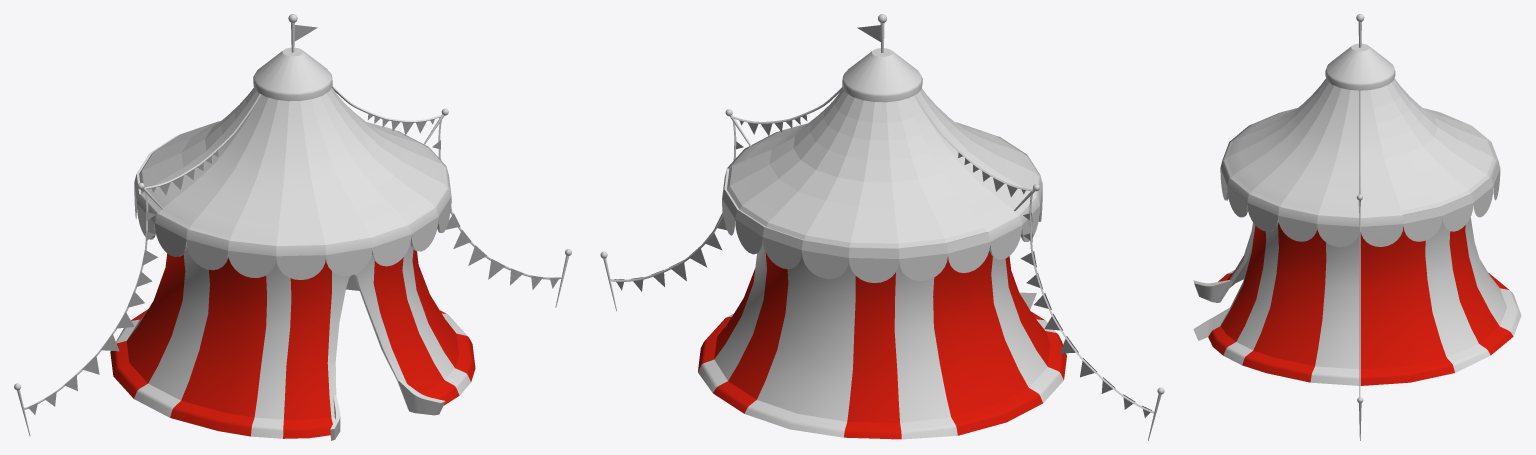
File: mid01tent_lowpoly.fbx
3 views of the same model, side by side, from view 1: azimuth 30°, elevation 25°; view 2: azimuth 150°, elevation 25°; view 3: azimuth 270°, elevation 25° (orthographic). The views are drawn at different scales.
Visible parts, largest first — view 1: mid01_tent_bottom1, mid01_tent_top1, polySurface421; view 2: mid01_tent_bottom1, mid01_tent_top1, polySurface421, sweep22; view 3: mid01_tent_bottom1, mid01_tent_top1, polySurface421, sweep14.
Part boxes in pixels (bbox=[...]): mid01_tent_bottom1: bbox=[110, 243, 475, 440]; mid01_tent_top1: bbox=[134, 87, 451, 279]; polySurface421: bbox=[253, 47, 332, 101]; mid01_tent_bottom1: bbox=[698, 240, 1066, 439]; mid01_tent_top1: bbox=[722, 88, 1042, 282]; polySurface421: bbox=[842, 48, 922, 102]; sweep22: bbox=[1029, 194, 1154, 413]; mid01_tent_bottom1: bbox=[1193, 217, 1521, 385]; mid01_tent_top1: bbox=[1220, 78, 1500, 246]; polySurface421: bbox=[1325, 43, 1395, 90]; sweep14: bbox=[1359, 202, 1360, 397].
Size of the model in its own units: 31.15 by 19.11 by 18.11.
